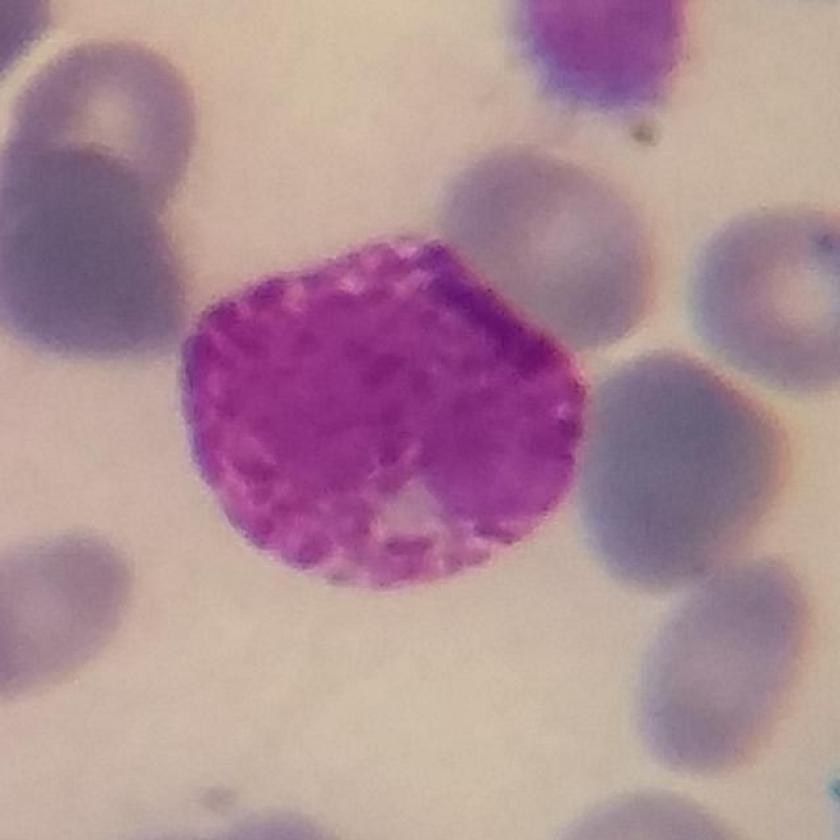basophil: (169, 224, 598, 604)
